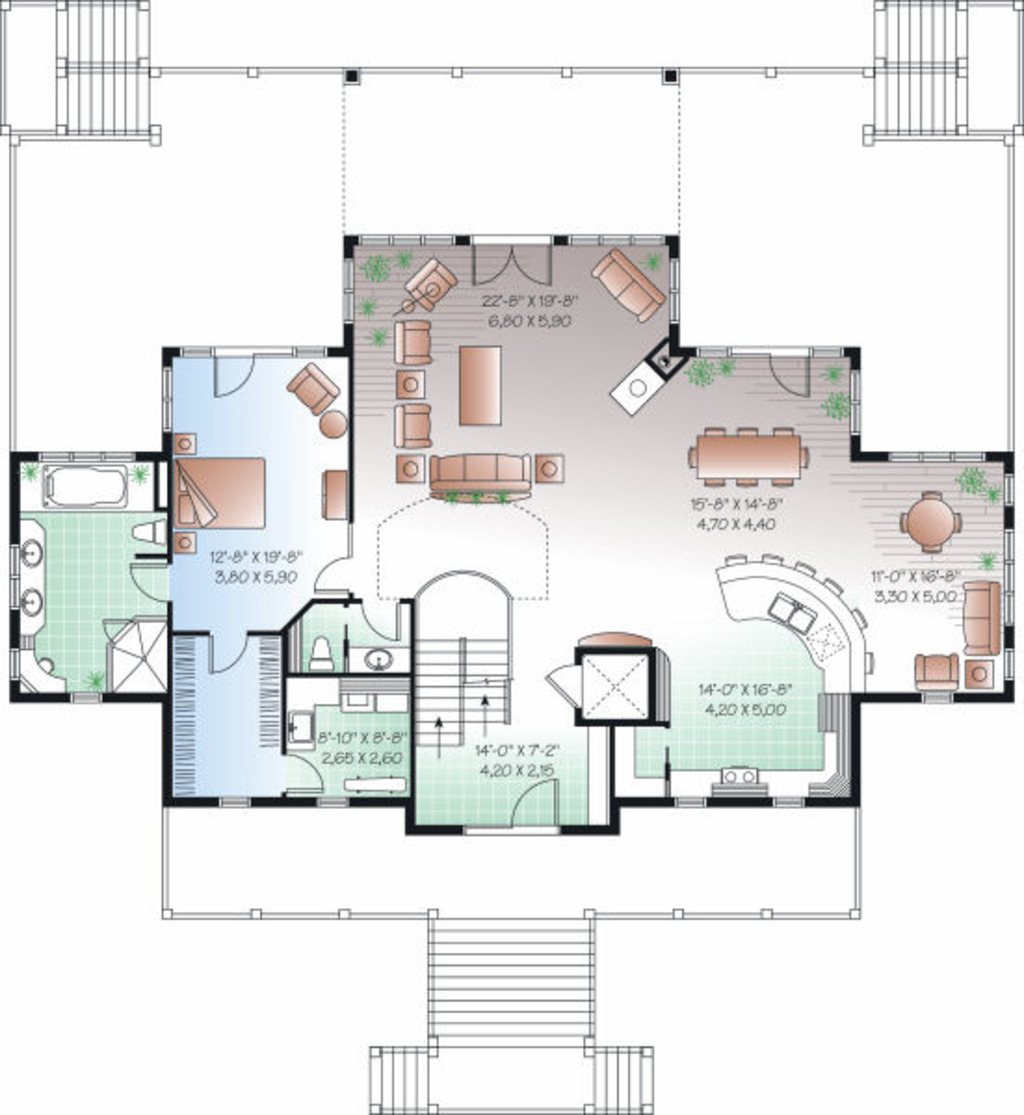bed: (168, 458, 268, 533)
dining_table: (684, 421, 815, 494), (767, 351, 813, 398)
door: (468, 237, 554, 295), (207, 344, 256, 400), (511, 777, 562, 827), (120, 558, 171, 608), (202, 631, 248, 677), (360, 595, 402, 645), (544, 660, 581, 712), (312, 551, 353, 597), (278, 750, 322, 792)
kitchen_bar: (706, 550, 876, 690)
large_sink: (128, 515, 175, 546), (305, 626, 336, 670)
large_sofa: (593, 251, 664, 325), (427, 451, 533, 494), (961, 580, 1002, 659)
round_table: (896, 486, 968, 554)
small_sink: (20, 517, 47, 634), (342, 645, 411, 674)
small_sofa: (282, 360, 340, 419), (409, 255, 454, 315), (393, 314, 435, 371), (908, 653, 962, 692), (391, 401, 434, 448)
stairs: (371, 900, 657, 1115), (866, 1, 1022, 138), (1, 1, 149, 143), (412, 631, 518, 747)
tub: (40, 463, 127, 517)
windows: (882, 446, 987, 471), (354, 232, 461, 254), (559, 230, 666, 252), (846, 367, 864, 437), (155, 364, 174, 428), (212, 791, 252, 810)
